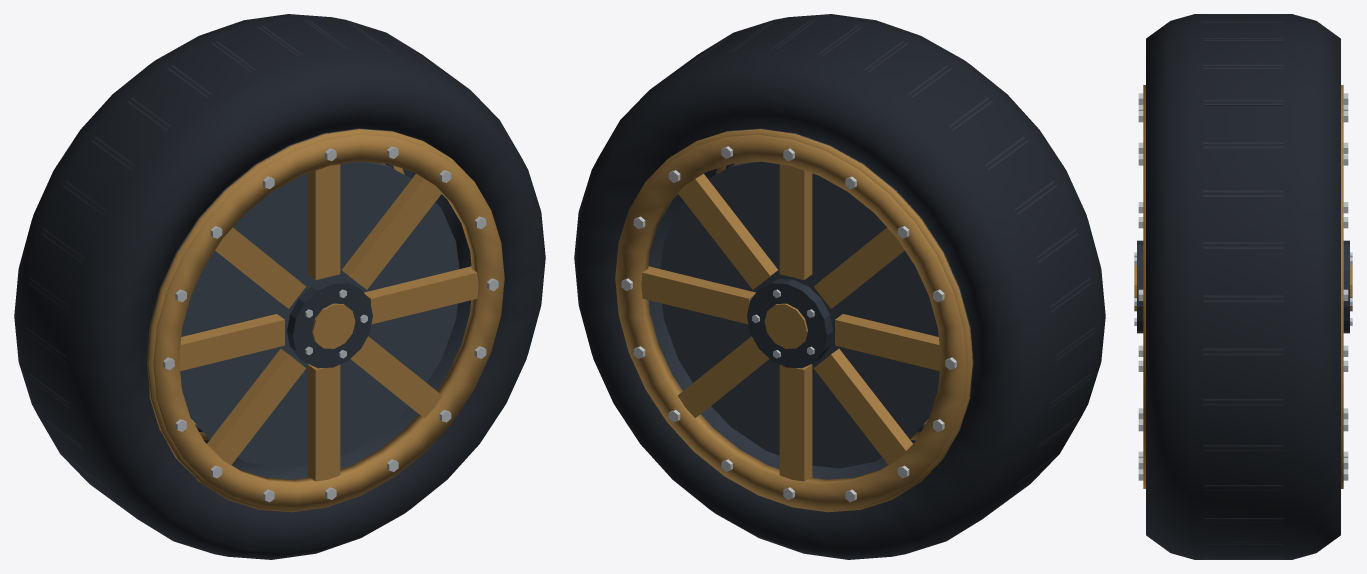
The model's file is beadlock.glb.
The picture shows the model from 3 angles, left to right: view 1: azimuth 30°, elevation 25°; view 2: azimuth 150°, elevation 25°; view 3: azimuth 270°, elevation 25°; orthographic projection.
Visible parts, largest first — view 1: wheel; view 2: wheel; view 3: wheel.
Boxes of the visible parts, x1,y1,x2,y2 form: wheel: (14, 14, 545, 559); wheel: (574, 14, 1105, 559); wheel: (1134, 14, 1352, 559).
Bounding box in the file's own units: 2 × 2 × 0.8.
